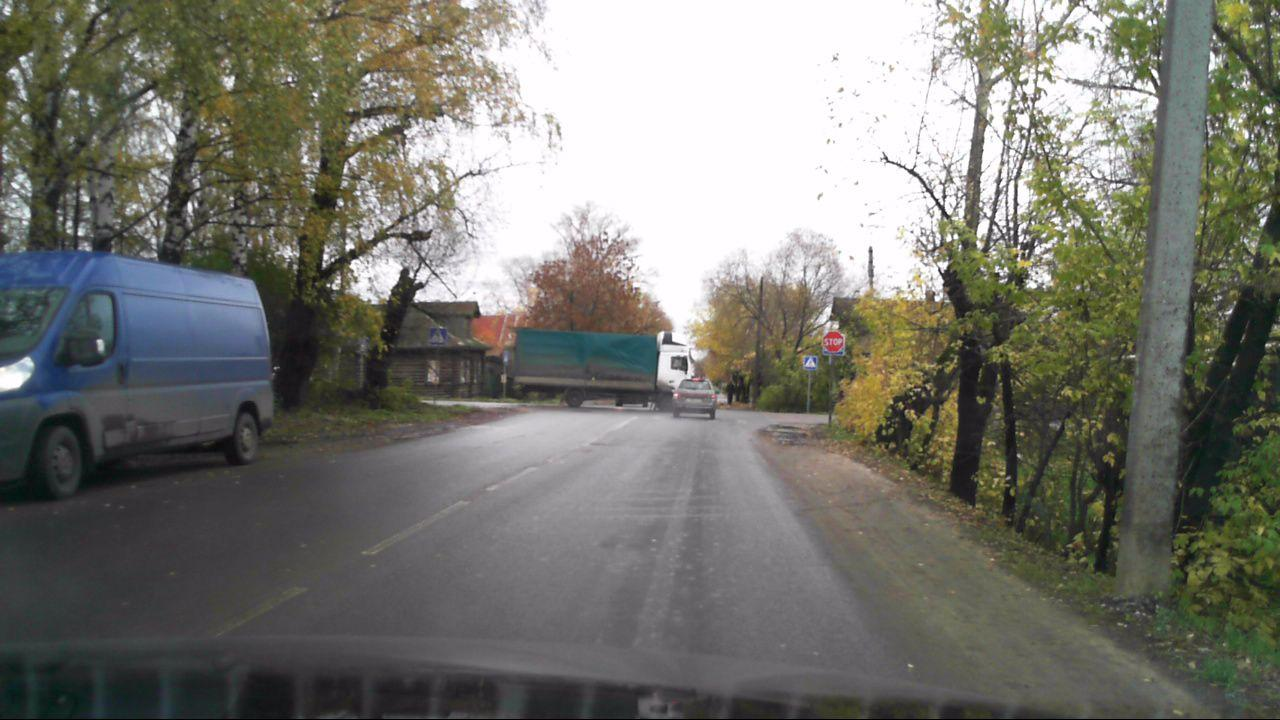2_5: (822, 331, 846, 354)
5_19_1: (804, 354, 818, 372)
5_19_2: (426, 326, 447, 346)
